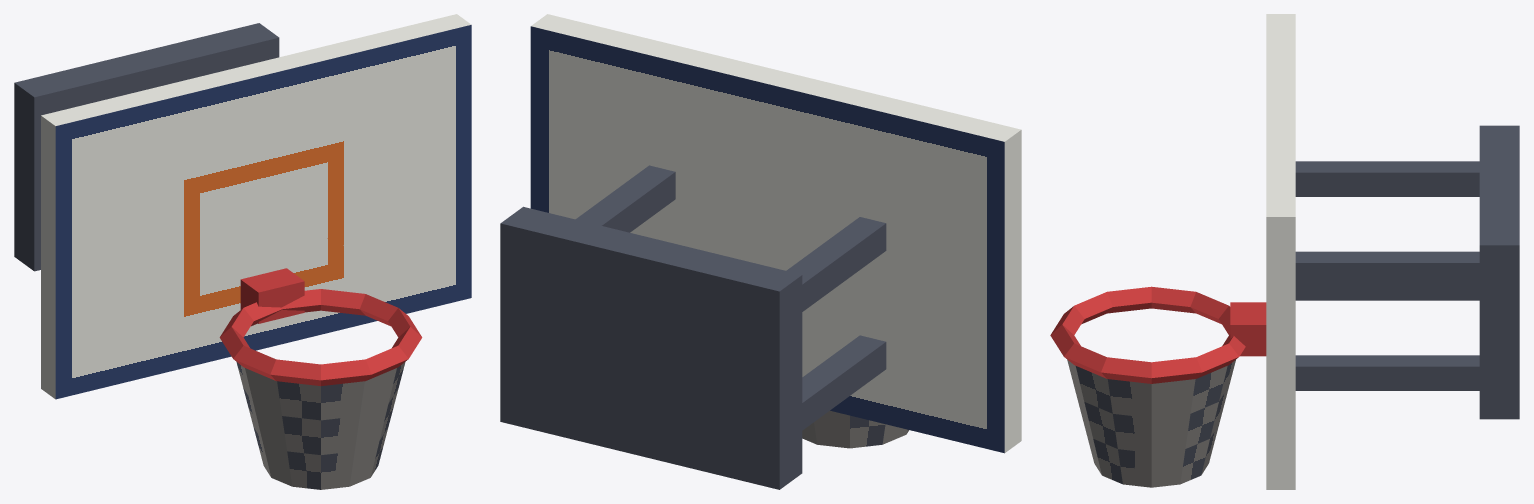
Rendered from hoop.glb.
3 views of the same model, side by side, from view 1: azimuth 30°, elevation 25°; view 2: azimuth 150°, elevation 25°; view 3: azimuth 270°, elevation 25° (orthographic). The views are drawn at different scales.
Visible parts, largest first — view 1: Board, Plate, Rim, Net0, Net1, Net2, Clip; view 2: Board, Plate, Arm01, Arm00, Arm11, Net2; view 3: Board, Plate, Rim, Arm01, Arm10, Arm11, Net0, Net1, Net2, Arm00, Clip.
Part boxes in pixels (bbox=[...]): Board: bbox=[41, 14, 471, 399]; Plate: bbox=[14, 23, 279, 271]; Rim: bbox=[219, 289, 422, 386]; Net0: bbox=[236, 362, 405, 420]; Net1: bbox=[243, 388, 398, 454]; Net2: bbox=[253, 427, 388, 489]; Clip: bbox=[240, 268, 304, 323]; Board: bbox=[530, 14, 1021, 453]; Plate: bbox=[500, 206, 802, 489]; Arm01: bbox=[786, 217, 886, 311]; Arm00: bbox=[802, 335, 886, 430]; Arm11: bbox=[575, 165, 675, 232]; Net2: bbox=[802, 410, 908, 448]; Board: bbox=[1266, 14, 1295, 489]; Plate: bbox=[1479, 125, 1519, 419]; Rim: bbox=[1050, 286, 1245, 383]; Arm01: bbox=[1295, 161, 1479, 196]; Arm10: bbox=[1295, 355, 1479, 390]; Arm11: bbox=[1295, 251, 1479, 286]; Net0: bbox=[1067, 359, 1235, 418]; Net1: bbox=[1074, 386, 1228, 452]; Net2: bbox=[1084, 425, 1218, 487]; Arm00: bbox=[1295, 287, 1479, 300]; Clip: bbox=[1230, 302, 1266, 356].
Size of the model in its own units: 1.8 by 1.44 by 1.76.
6 materials, 3 textured.
